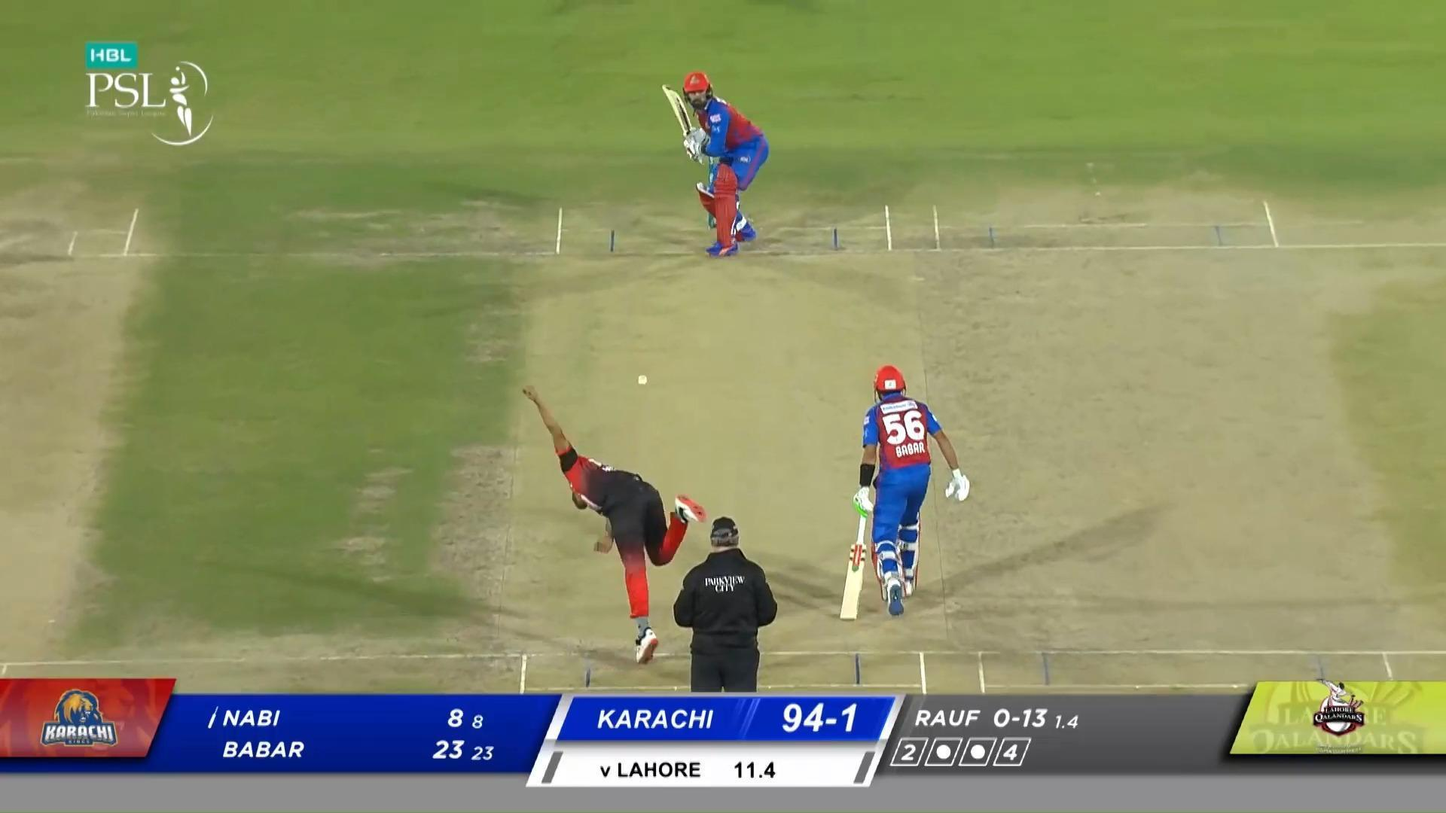BM 1: (661, 71, 769, 257)
BO: (523, 382, 708, 664)
